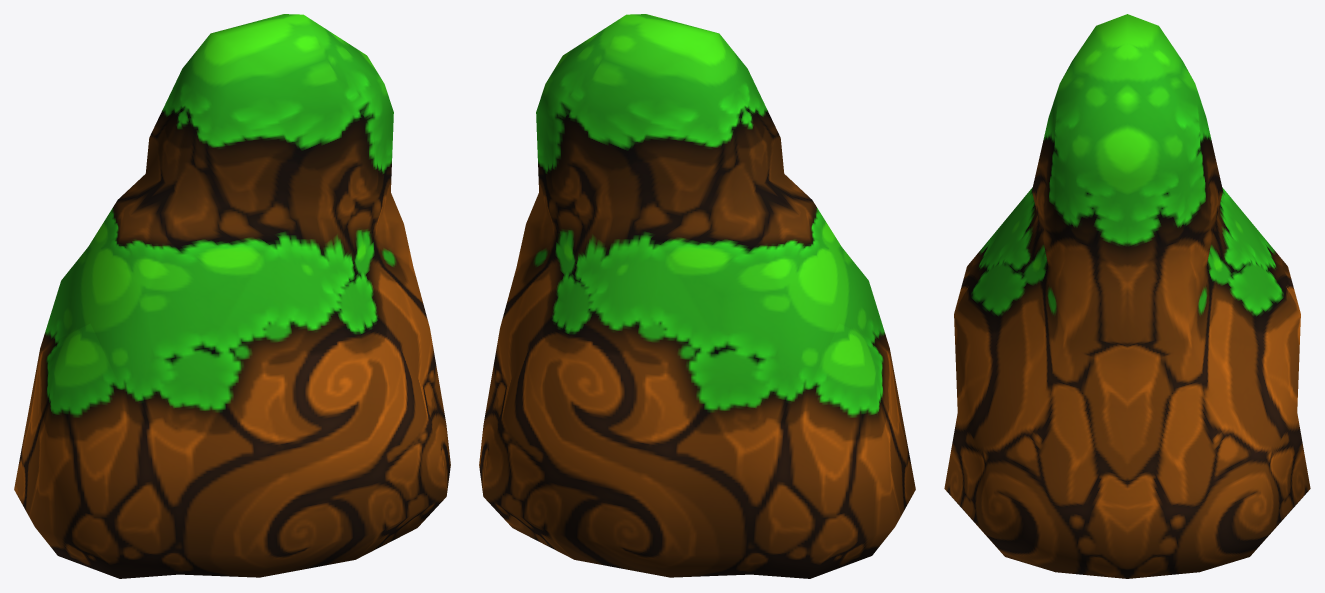
The model's file is Green_Rock_03.FBX.
The picture shows the model from 3 angles, left to right: view 1: azimuth 30°, elevation 25°; view 2: azimuth 150°, elevation 25°; view 3: azimuth 270°, elevation 25°; orthographic projection.
Visible parts, largest first — view 1: Green_Rock_03; view 2: Green_Rock_03; view 3: Green_Rock_03.
Part boxes in pixels (<box>): Green_Rock_03: <box>14,14,450,578</box>; Green_Rock_03: <box>479,14,915,578</box>; Green_Rock_03: <box>944,14,1310,578</box>.
Bounding box in the file's own units: 340 × 402 × 278.
